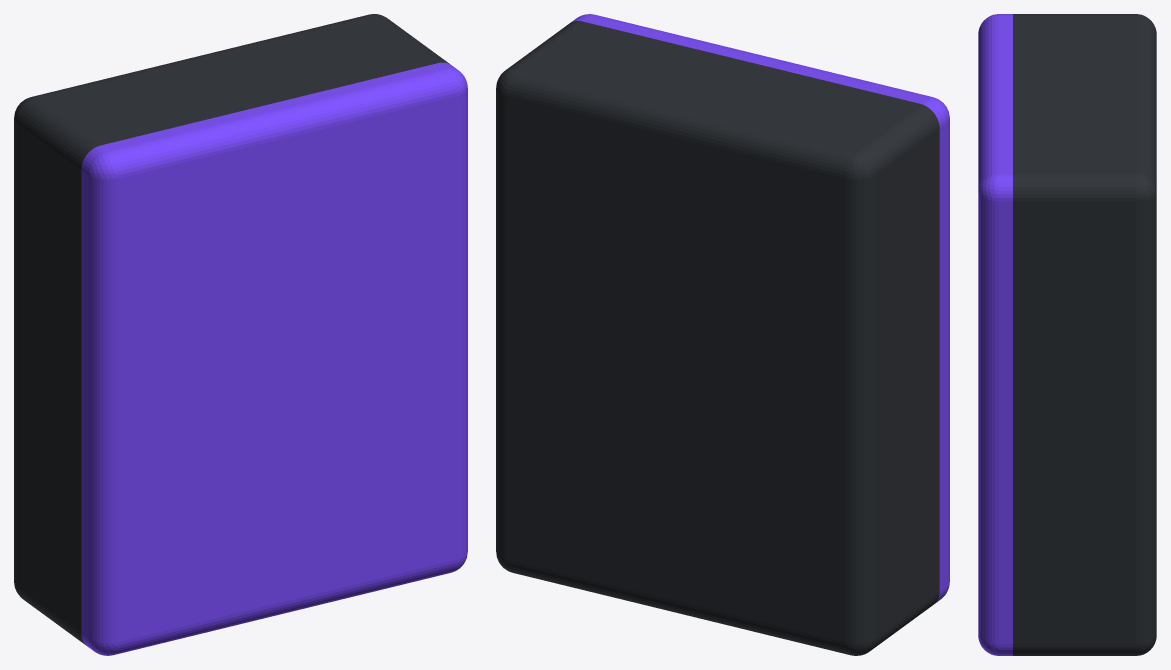
File: lightmodule.glb
3 views of the same model, side by side, from view 1: azimuth 30°, elevation 25°; view 2: azimuth 150°, elevation 25°; view 3: azimuth 270°, elevation 25° (orthographic). The views are drawn at different scales.
Parts seen in each view (by area): view 1: lid, shell; view 2: shell, lid; view 3: shell, lid.
Part boxes in pixels (x1,y1,x2,y2): lid: (81, 62, 467, 655); shell: (14, 14, 449, 644); shell: (496, 21, 939, 655); lid: (570, 14, 949, 603); shell: (1013, 14, 1156, 655); lid: (978, 14, 1012, 655).
Size of the model in its own units: 0.0595 by 0.076 by 0.0256.
